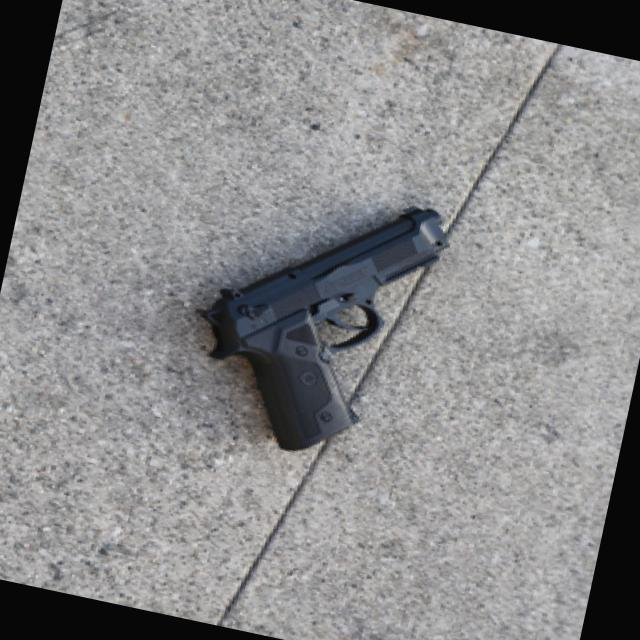handgun: (177, 162, 460, 475)
